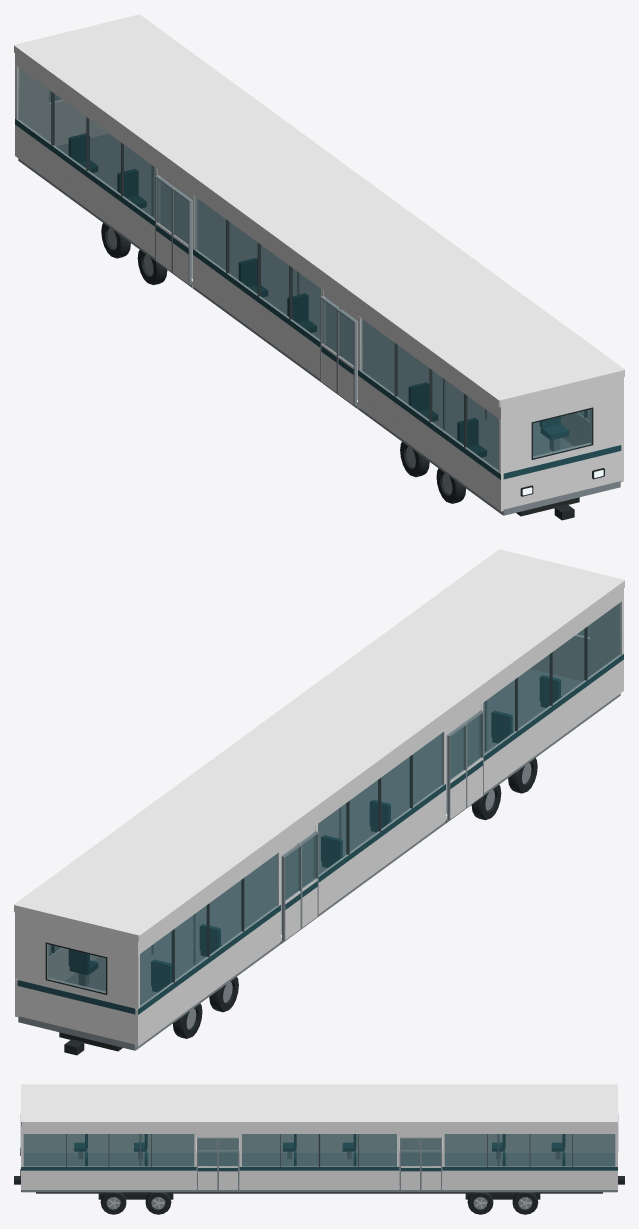
File: sg-mrt-carriage.glb
The picture shows the model from 3 angles, top to bottom: view 1: azimuth 30°, elevation 25°; view 2: azimuth 150°, elevation 25°; view 3: azimuth 270°, elevation 25°; orthographic projection. The views are drawn at different scales.
Parts seen in each view (by area): view 1: body, door_L1, door_L2; view 2: body, door_L2, door_L1; view 3: body, door_R1, door_R2, wheel_FR, wheel_FR2, wheel_RR, wheel_RR2, door_L1, door_L2.
Boxes of the visible parts, bbox=[...] form: body: bbox=[14, 14, 624, 520]; door_L1: bbox=[320, 296, 356, 405]; door_L2: bbox=[155, 175, 191, 284]; body: bbox=[14, 549, 624, 1055]; door_L2: bbox=[282, 831, 318, 940]; door_L1: bbox=[447, 710, 483, 819]; body: bbox=[14, 1084, 624, 1199]; door_R1: bbox=[197, 1137, 239, 1189]; door_R2: bbox=[399, 1137, 441, 1189]; wheel_FR: bbox=[100, 1192, 126, 1214]; wheel_FR2: bbox=[145, 1192, 171, 1214]; wheel_RR: bbox=[512, 1192, 538, 1214]; wheel_RR2: bbox=[467, 1192, 493, 1214]; door_L1: bbox=[197, 1137, 238, 1149]; door_L2: bbox=[400, 1137, 441, 1149].
Size of the model in its own units: 3.08 by 3.7 by 20.48.
